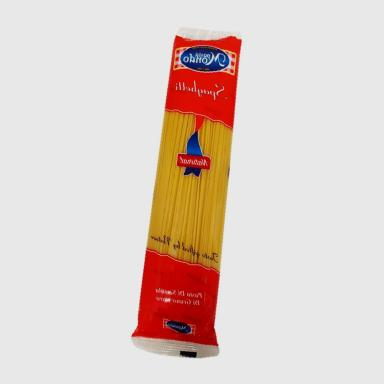pasta package: (133, 29, 241, 357)
